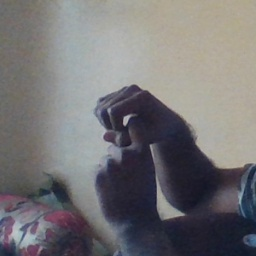Q: (85, 82, 173, 206)
